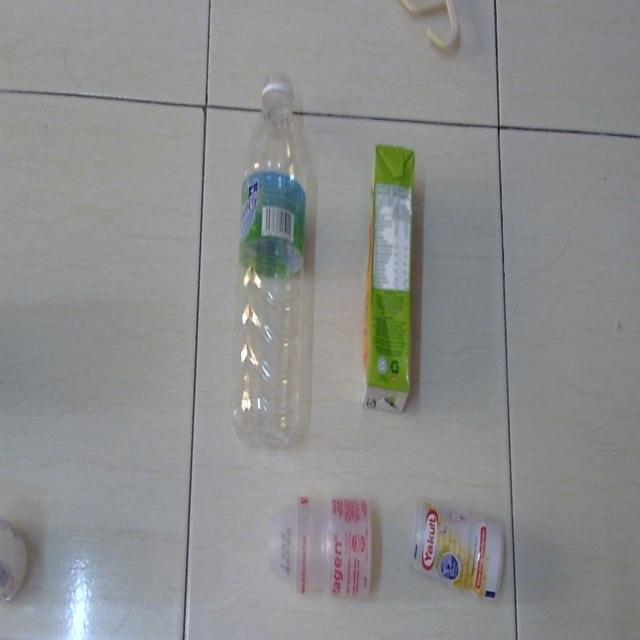plastic_laydown_0rotation: (256, 493, 376, 606), (406, 492, 510, 611)
plastic_laydown_90rotation: (233, 65, 309, 443), (362, 137, 427, 421)
